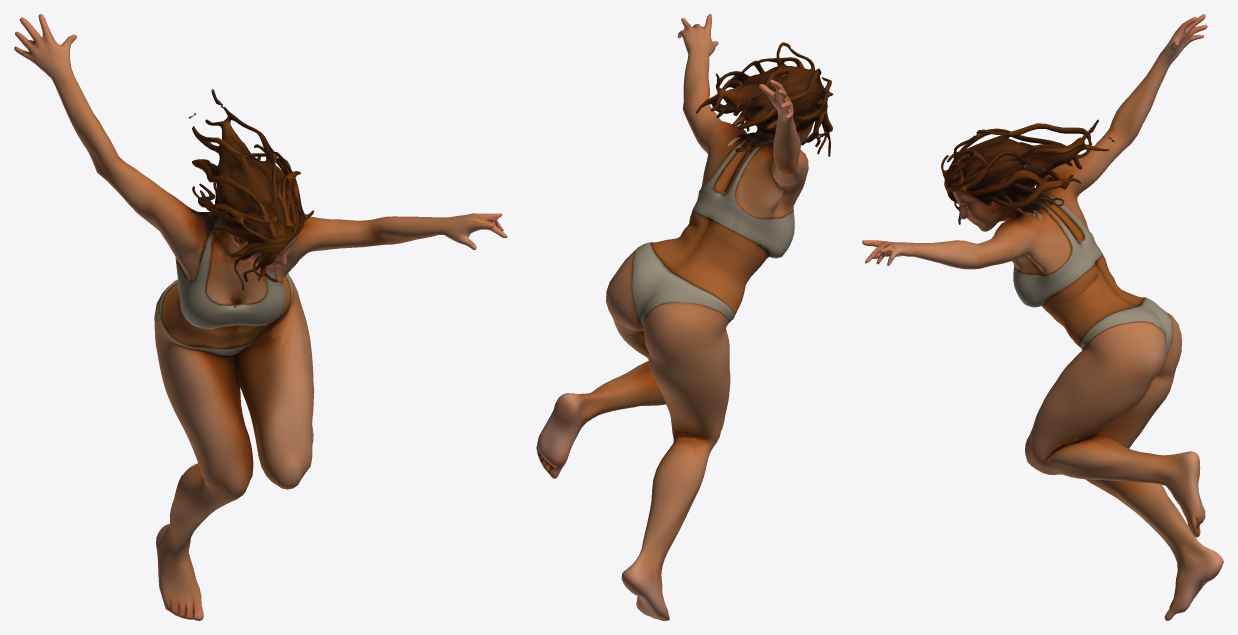
The model's file is female_jump.glb.
3 renders of one model, left to right at view 1: azimuth 30°, elevation 25°; view 2: azimuth 150°, elevation 25°; view 3: azimuth 270°, elevation 25°, orthographic. The views are drawn at different scales.
Parts seen in each view (by area): view 1: tripo_node_6bb0bd58-64de-4163-88b5-bf1f6ca86352; view 2: tripo_node_6bb0bd58-64de-4163-88b5-bf1f6ca86352; view 3: tripo_node_6bb0bd58-64de-4163-88b5-bf1f6ca86352.
Boxes of the visible parts, x1,y1,x2,y2 form: tripo_node_6bb0bd58-64de-4163-88b5-bf1f6ca86352: [14, 14, 507, 620]; tripo_node_6bb0bd58-64de-4163-88b5-bf1f6ca86352: [536, 14, 833, 620]; tripo_node_6bb0bd58-64de-4163-88b5-bf1f6ca86352: [862, 14, 1223, 620].
Bounding box in the file's own units: 0.6828 × 1.36 × 0.8201.
1 material, 1 textured.
